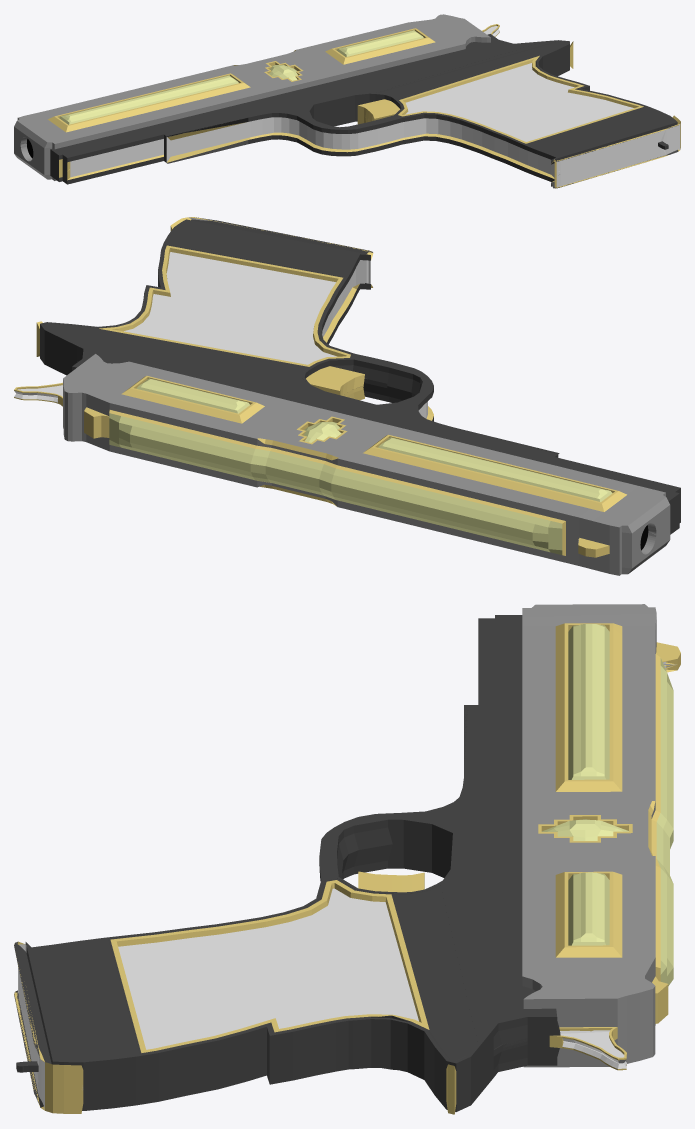
The model's file is ColtPistolGemstone.fbx.
3 renders of one model, top to bottom at view 1: azimuth 30°, elevation 25°; view 2: azimuth 150°, elevation 25°; view 3: azimuth 270°, elevation 25°, orthographic. The views are drawn at different scales.
Visible parts, largest first — view 1: Handle, GunShaft; view 2: GunShaft, Handle; view 3: Handle, GunShaft.
Boxes of the visible parts, bbox=[...] form: Handle: bbox=[50, 34, 680, 188]; GunShaft: bbox=[14, 14, 499, 180]; GunShaft: bbox=[14, 354, 670, 575]; Handle: bbox=[36, 217, 680, 534]; Handle: bbox=[14, 615, 560, 1114]; GunShaft: bbox=[522, 604, 680, 1070].
Bounding box in the file's own units: 472 × 45.99 × 293.
